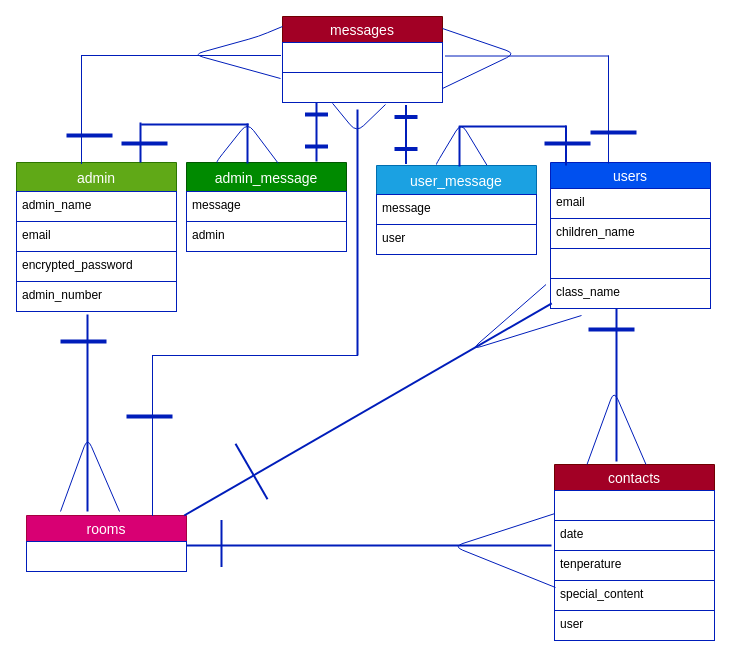
The diagram is 731 pixels wide and 657 high, and some of its shapes have lost their labels. The centre of each missing label's shape, as x and y in pixels:
content: the point at 362,57
gurdian_name: the point at 630,263
name: the point at 106,556
room: the point at 362,87
title: the point at 634,505
